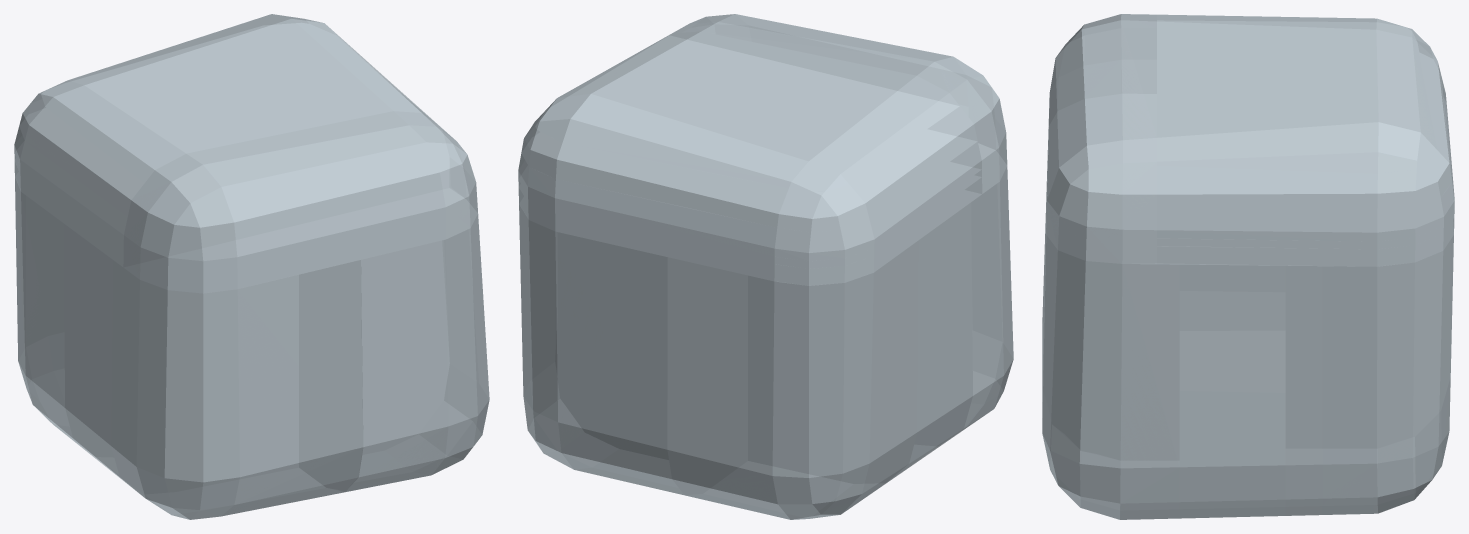
Rendered from ice.glb.
3 renders of one model, left to right at view 1: azimuth 30°, elevation 25°; view 2: azimuth 150°, elevation 25°; view 3: azimuth 270°, elevation 25°, orthographic. The views are drawn at different scales.
Visible parts, largest first — view 1: intact_mesh, shard_007, shard_002, shard_000, shard_005, shard_003, shard_004, shard_009, shard_006, shard_010, shard_011; view 2: intact_mesh, shard_004, shard_000, shard_001, shard_009, shard_006, shard_003, shard_002, shard_007, shard_010, shard_011; view 3: intact_mesh, shard_000, shard_005, shard_001, shard_003, shard_002, shard_009, shard_008, shard_006, shard_010, shard_011.
Part boxes in pixels (x1,y1,x2,y2): intact_mesh: (14,14,489,519); shard_007: (111,260,363,519); shard_002: (123,111,477,293); shard_000: (41,14,421,182); shard_005: (345,215,489,491); shard_003: (64,224,119,476); shard_004: (15,177,87,450); shard_009: (19,79,438,216); shard_006: (14,127,127,242); shard_010: (14,161,123,266); shard_011: (14,153,123,250); intact_mesh: (518,14,1013,519); shard_004: (667,240,918,519); shard_000: (535,31,959,191); shard_001: (519,204,683,494); shard_009: (521,106,977,232); shard_006: (518,142,981,261); shard_003: (889,203,972,480); shard_002: (674,14,1007,193); shard_007: (951,167,1013,437); shard_010: (518,177,981,285); shard_011: (518,170,981,268); intact_mesh: (1042,14,1454,519); shard_000: (1157,15,1437,173); shard_005: (1042,194,1179,519); shard_001: (1322,235,1453,514); shard_003: (1179,263,1285,518); shard_002: (1046,14,1156,264); shard_009: (1157,27,1451,211); shard_008: (1285,265,1322,515); shard_006: (1157,77,1454,241); shard_010: (1157,218,1453,266); shard_011: (1157,210,1454,249).
Size of the model in its own units: 0.6769 by 0.6884 by 0.6626.
